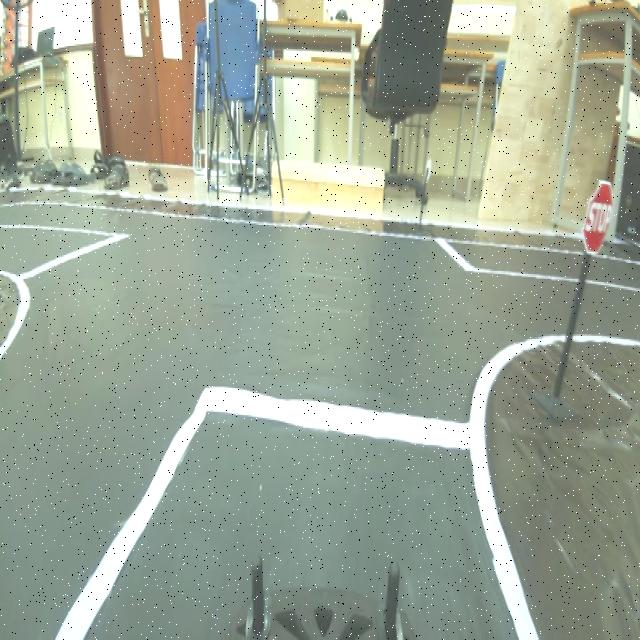stop: (578, 176, 618, 263)
